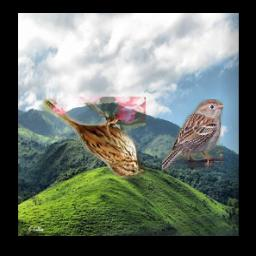Sparrow: (41, 98, 146, 180), (163, 99, 224, 171)
